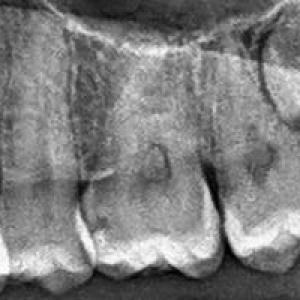tooth: (74, 42, 224, 280), (1, 5, 98, 298), (211, 81, 300, 274)
